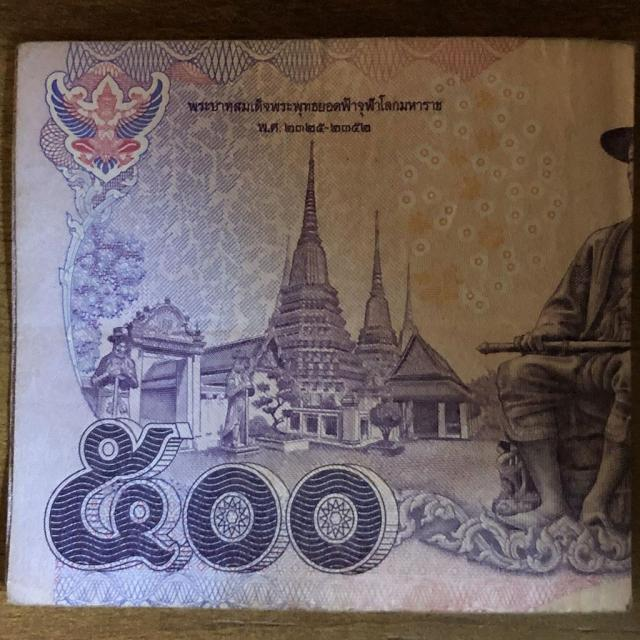THAI500: (7, 38, 634, 612)
